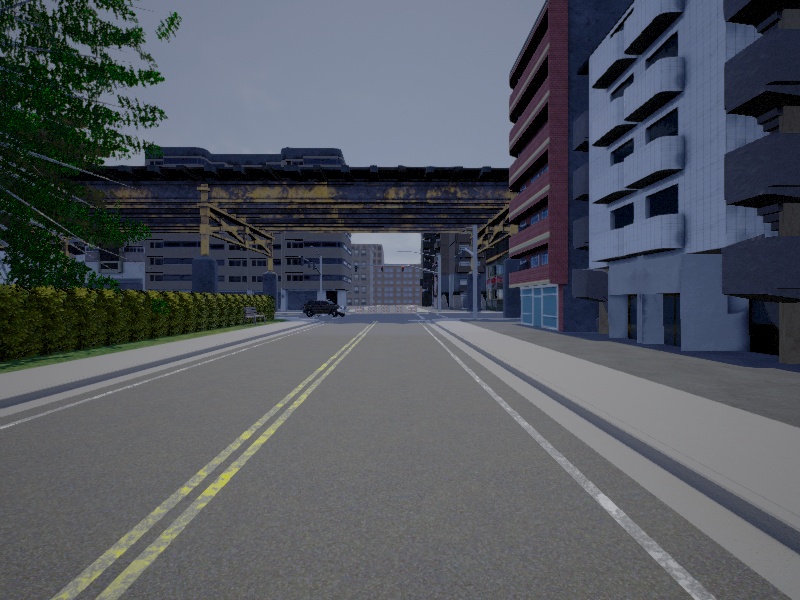Benign: (303, 299, 350, 319)
